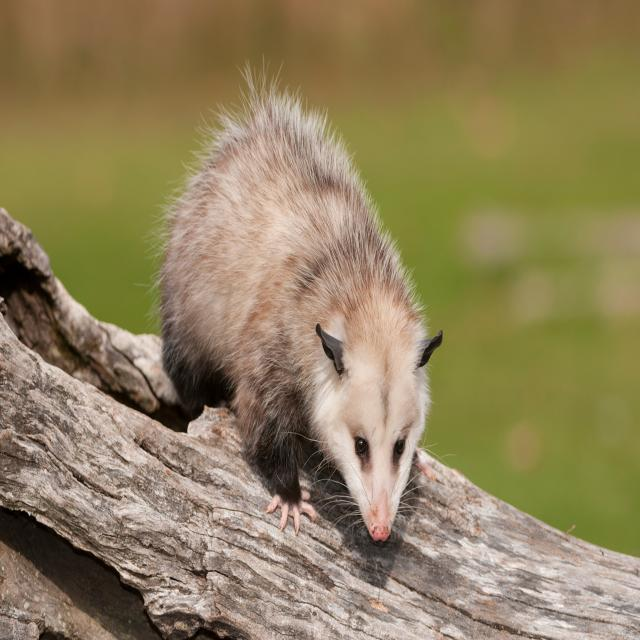Possum: (161, 91, 433, 544)
